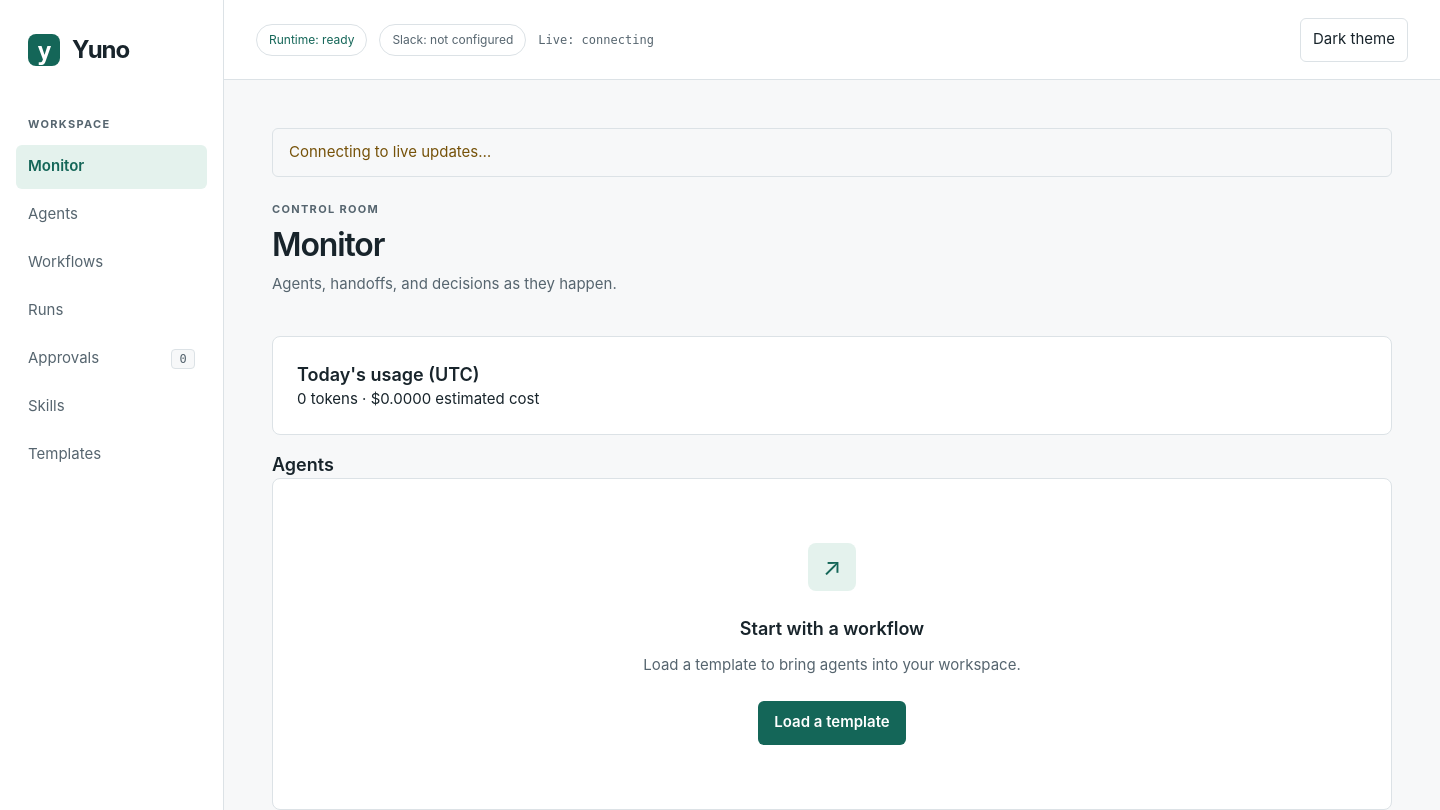
Test case: T15 shell navigation and visible status (R-29, R-31) › navigates between workspace routes and shows live runtime/channel and approval status
Expected: the text "Runtime: ready" is shown, [256,24,367,56]
Expected: the text "Slack: not configured" is shown, [379,24,526,56]
Step 1. Click the link "Agents" → (53, 214), box [28,204,78,223]
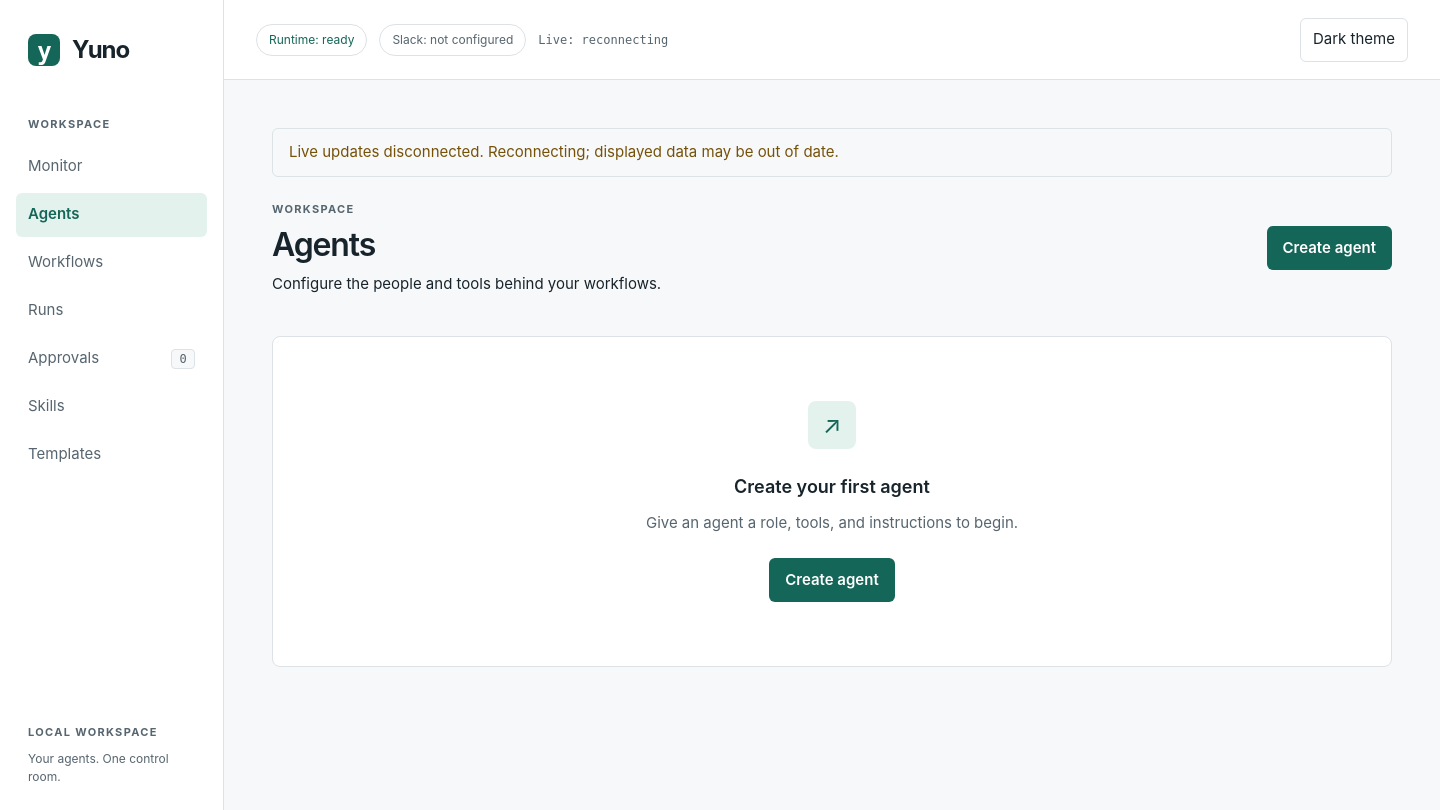
Expected: the text "Live: connected" is shown, [538,30,668,48]
Result: the heading "Agents" is shown at [272,225,375,264]
Result: the text "Live updates disconnected. Reconnecting; displayed data may be out of date." is shown at [272,128,1392,176]
